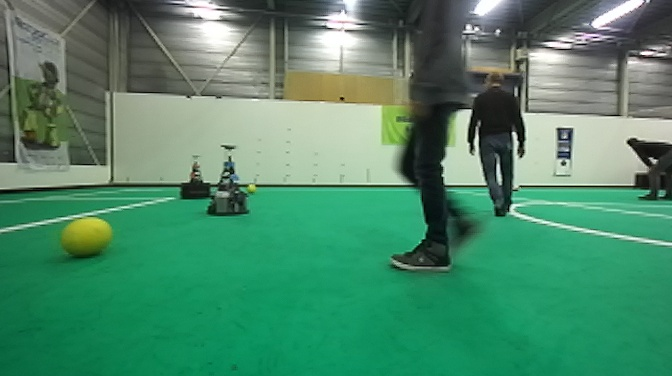ball: (59, 215, 115, 261), (244, 181, 258, 194), (509, 181, 521, 194)
human: (383, 1, 482, 275), (465, 68, 527, 218), (624, 134, 672, 202)
robot: (203, 143, 250, 217), (177, 153, 215, 201)
